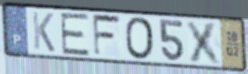5: (157, 17, 186, 63)
E: (58, 12, 92, 57)
F: (90, 13, 124, 59)
K: (30, 10, 57, 54)
O: (124, 15, 156, 61)
X: (184, 19, 225, 66)
